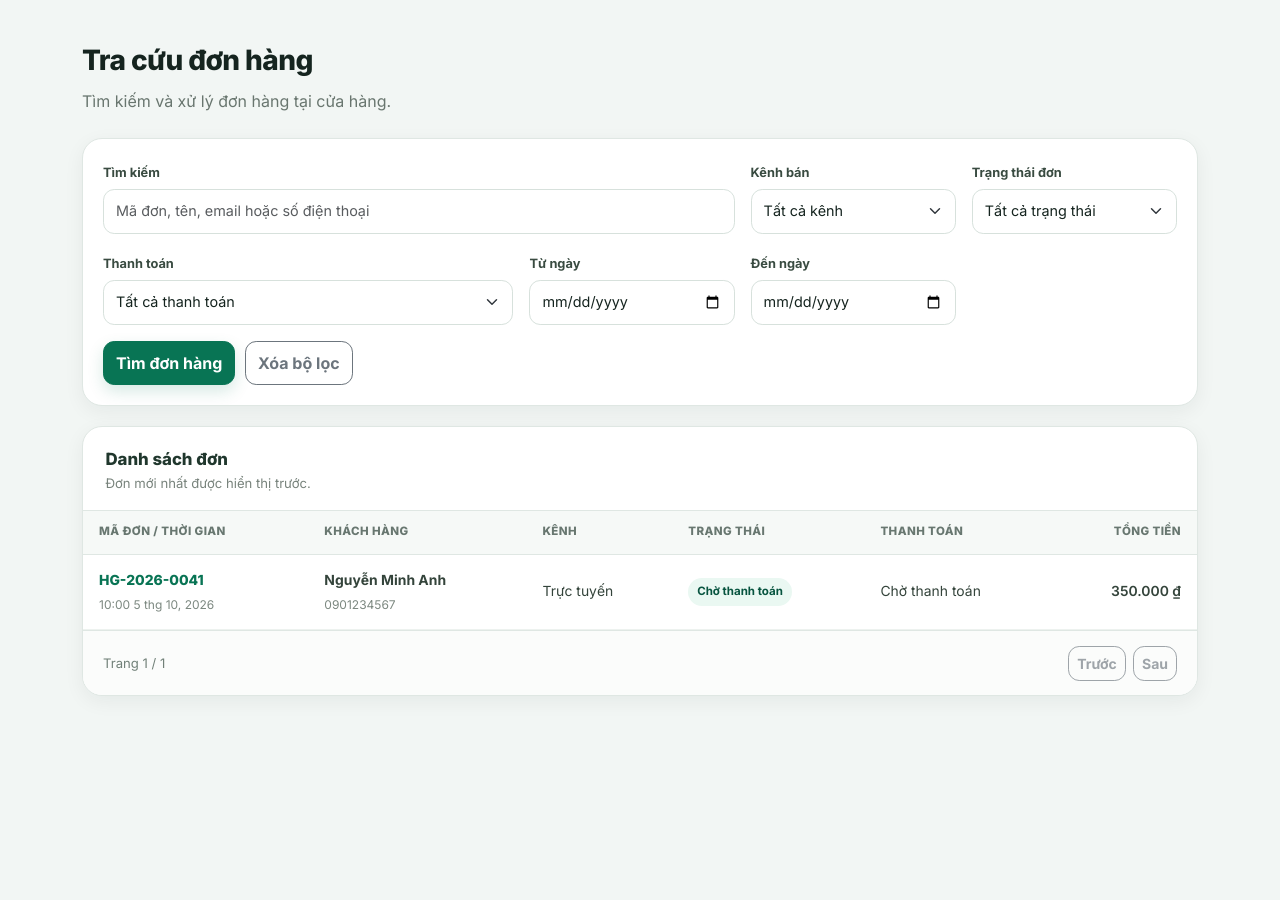
Scenario: StaffOrdersPage › shows confirmation errors and allows retry; conflicts can reload details
Click the button with aria-label "Xem chi tiết đơn HG-2026-0041": click(151, 581) left=99, top=570, right=204, bottom=592
(page scrolled)
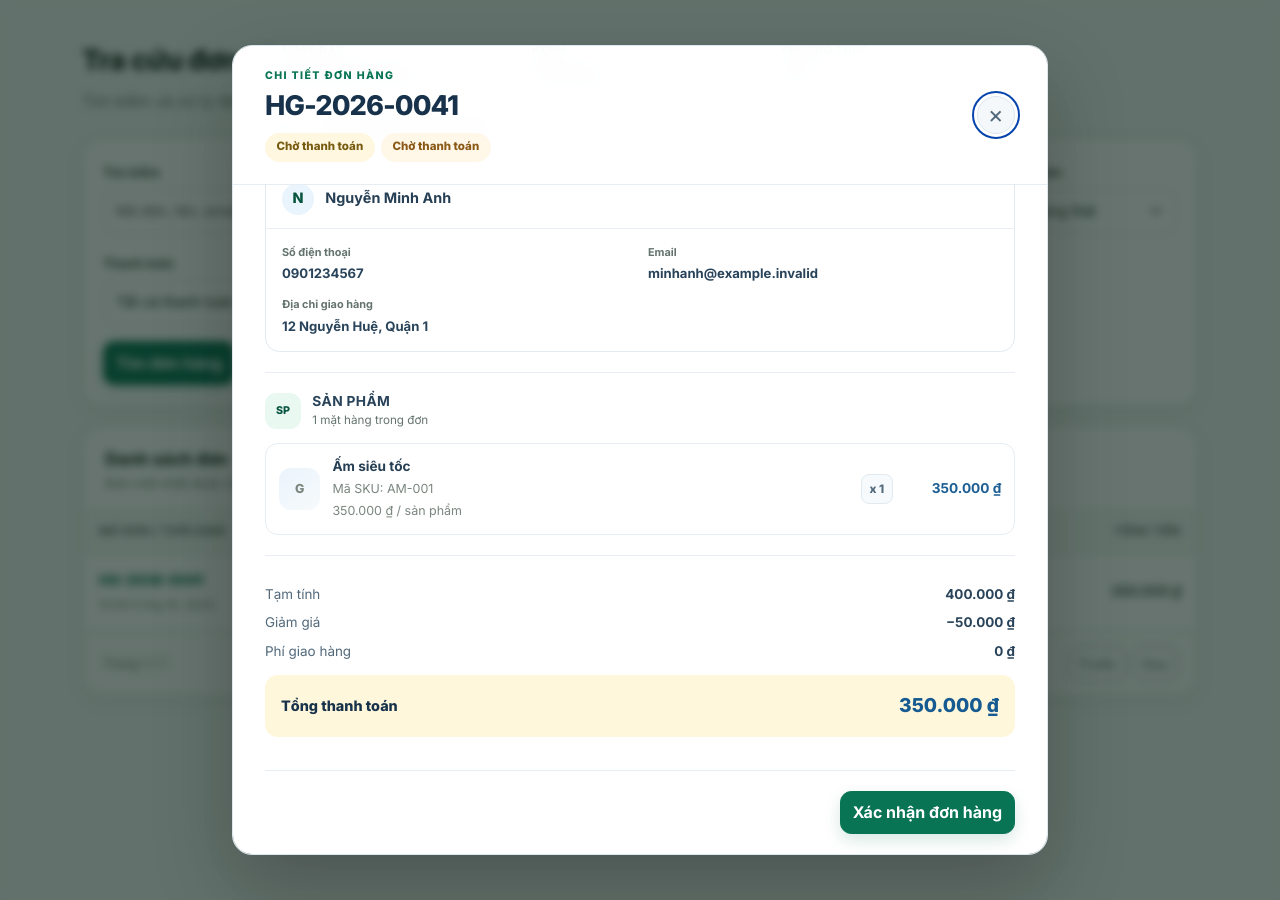
Click the button "Xác nhận đơn hàng": click(927, 812) left=840, top=791, right=1015, bottom=834
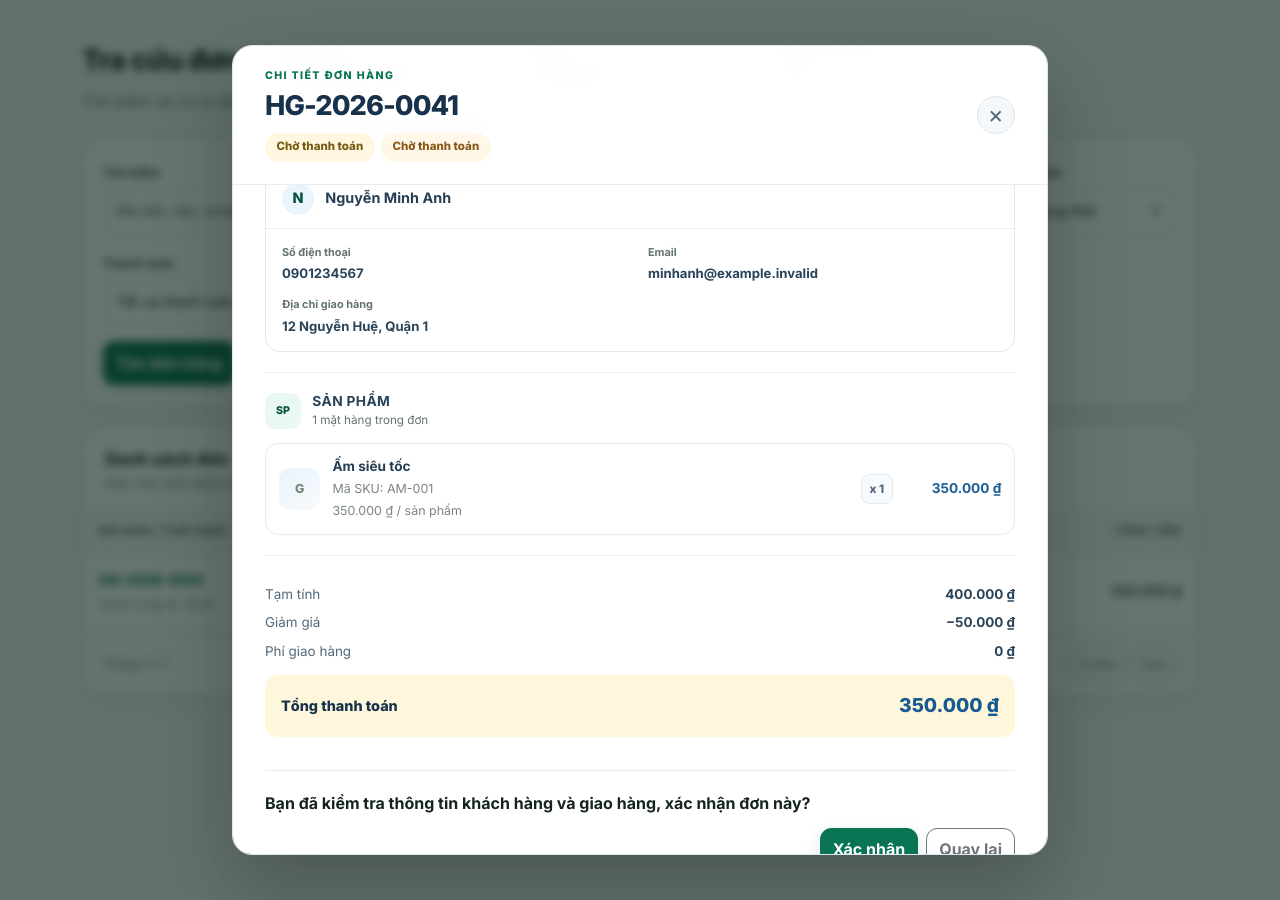
Click the button "Xác nhận": click(869, 849) left=820, top=828, right=918, bottom=870
(page scrolled)
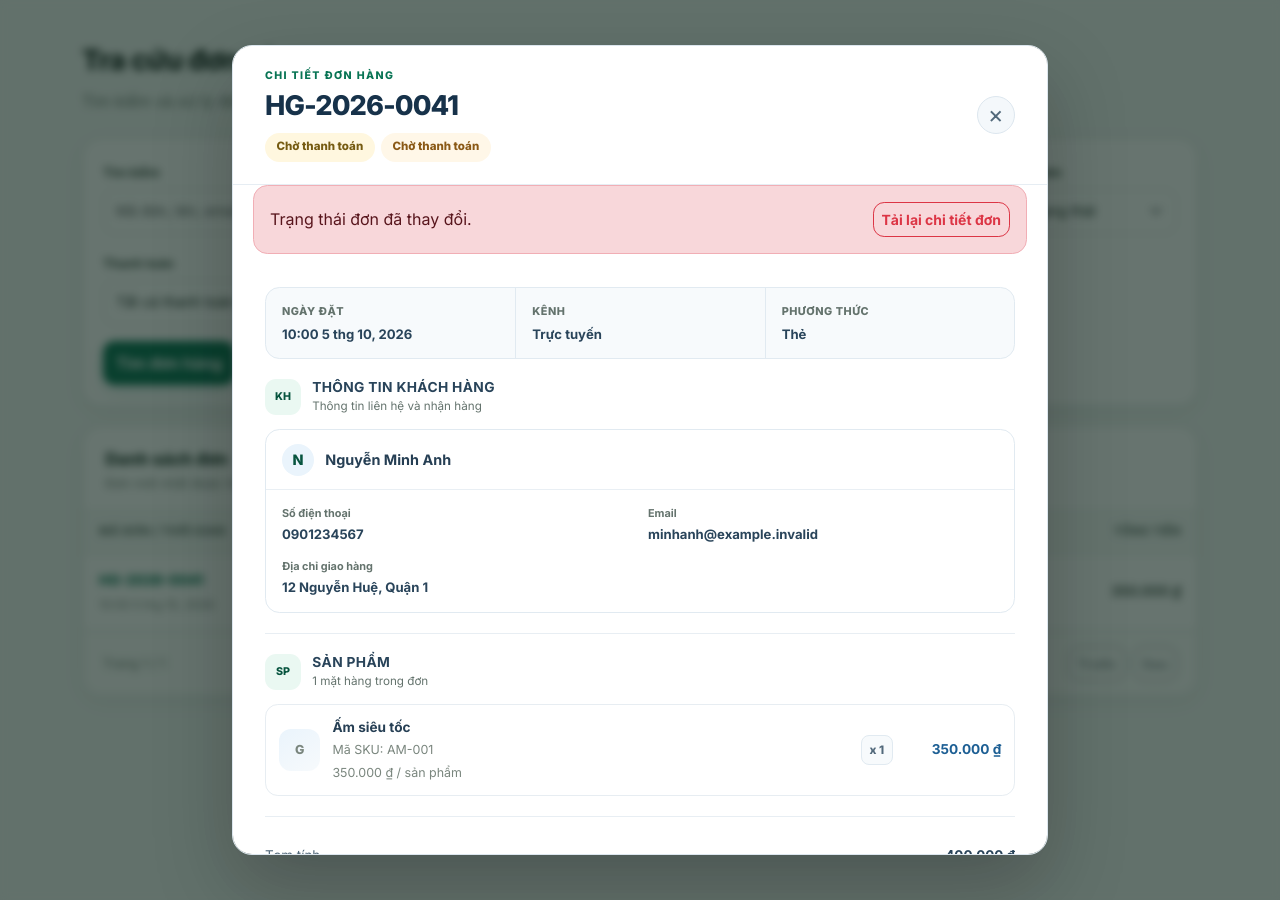
Now the message shows "Trạng thái đơn đã thay đổi.", box left=270, top=209, right=472, bottom=229
Now the button "Tải lại chi tiết đơn" is shown
Click the button "Tải lại chi tiết đơn": click(941, 219) left=872, top=202, right=1010, bottom=237
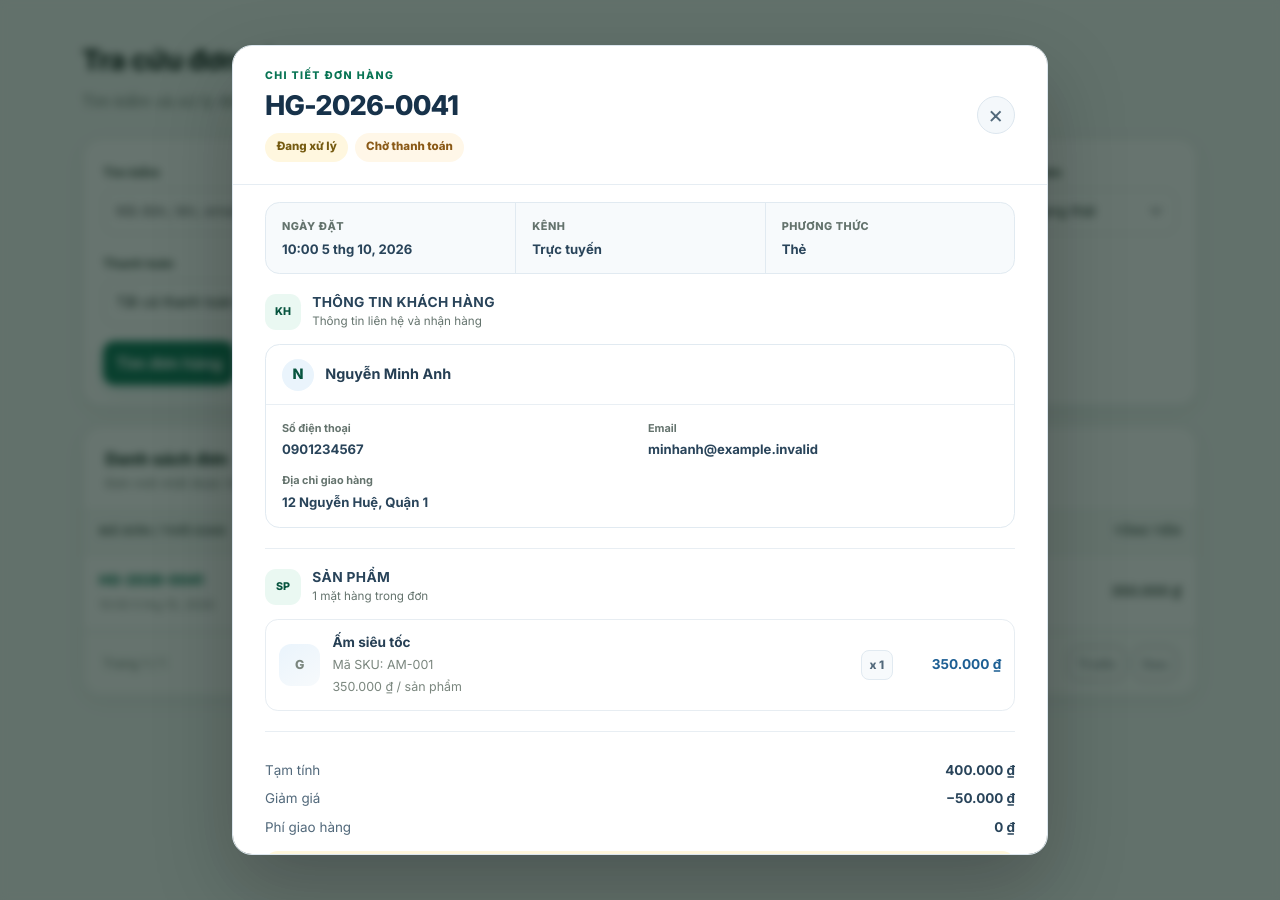
Expected: the button "Xác nhận đơn hàng" is not shown
Now the text "Đang xử lý" is shown, box left=265, top=133, right=348, bottom=162
